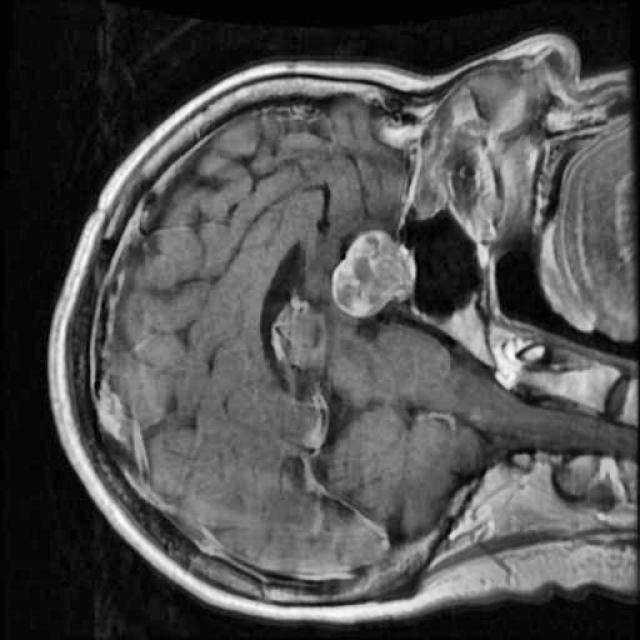Tumor: (320, 220, 425, 325)
